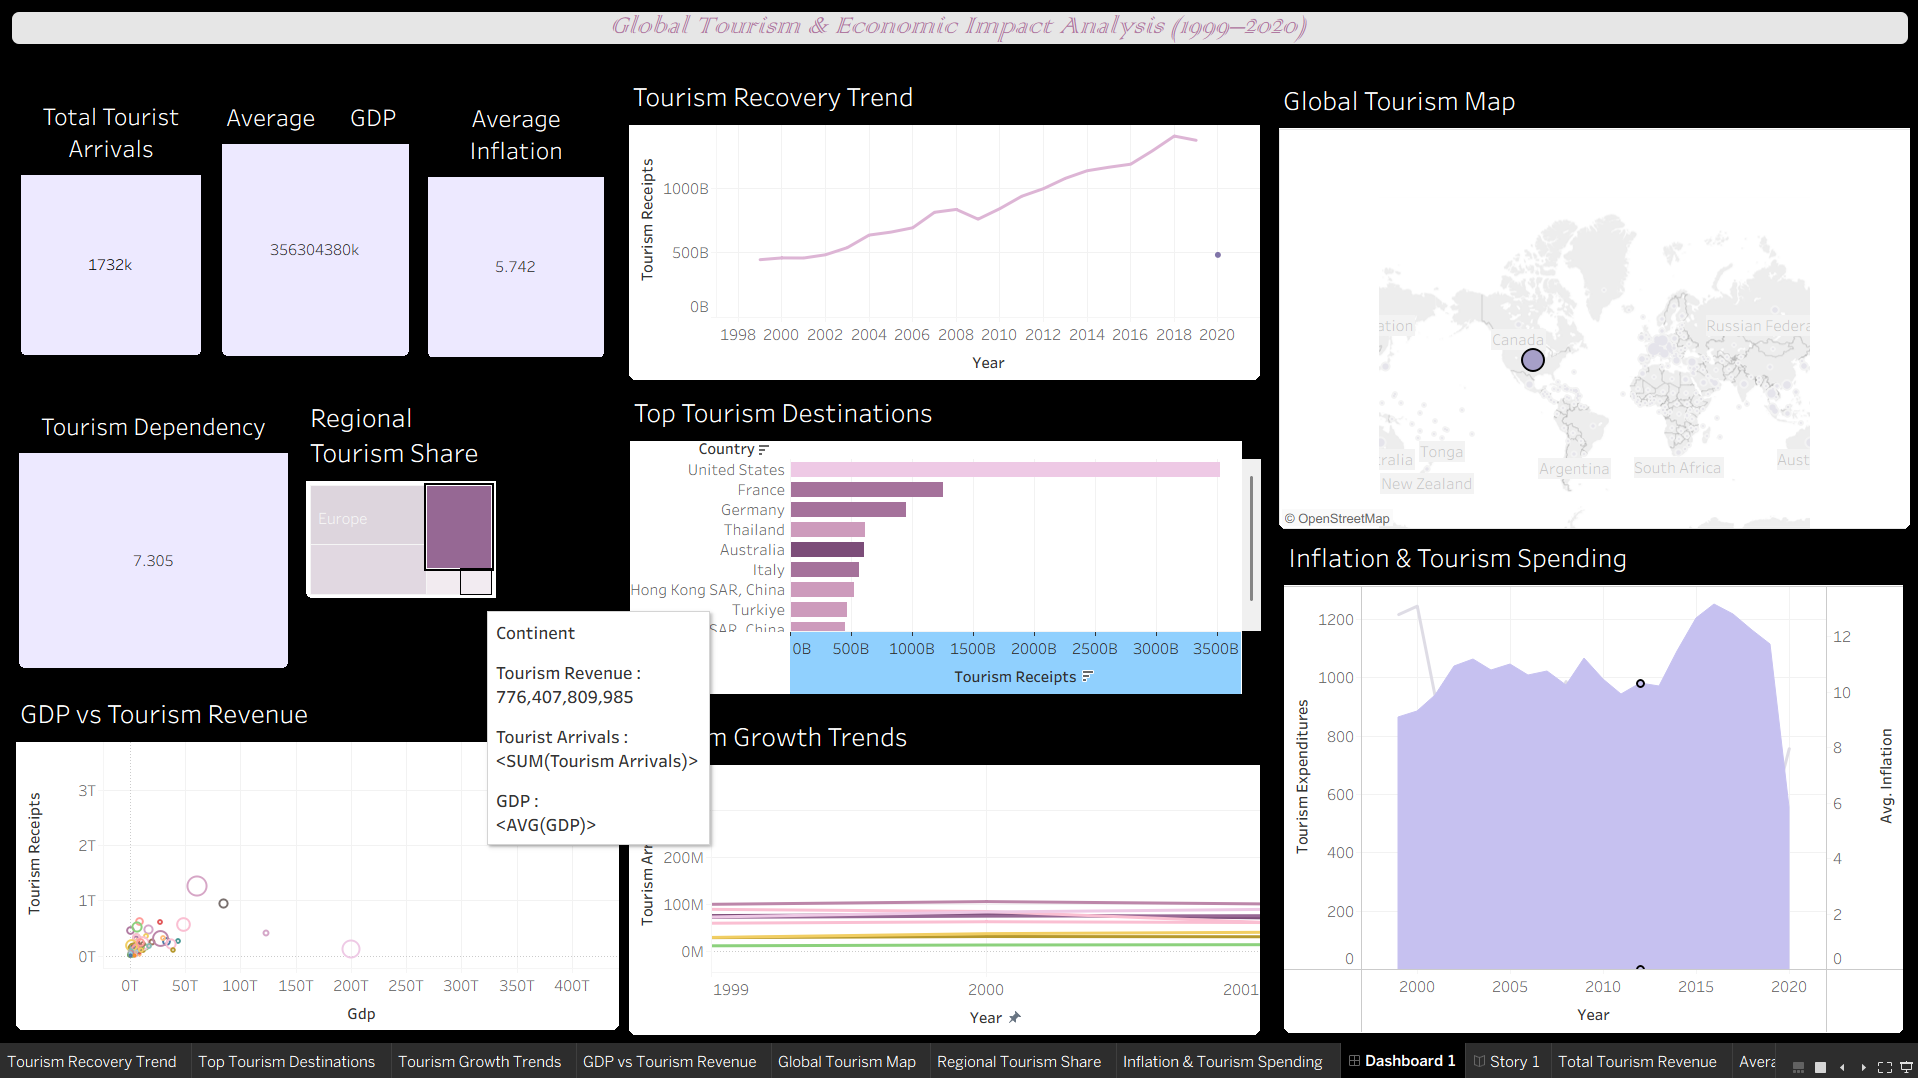

The dashboard page shown, as its layout file describes it:
{"tool":"tableau","page":{"name":"Dashboard 1","canvas":[1000,1000],"units":"permille","ordinal":0},"visuals":[{"type":"title","box":[4.9,10,990.2,50.2]},{"type":"worksheet","title":"Tourism Recovery Trend","mark":"Automatic","rows":["tourism_receipts"],"cols":["year"],"box":[325.3,68.2,333.1,299.7]},{"type":"worksheet","title":"Global Tourism Map","mark":"Automatic","box":[663.9,71.7,333.1,439.5]},{"type":"worksheet","title":"Total Tourism Revenue","mark":"Automatic","box":[9.1,88.1,97.8,256.2]},{"type":"worksheet","title":"Average GDP","mark":"Automatic","box":[113.5,89.3,101.4,256.2]},{"type":"worksheet","title":"Average Inflation","mark":"Automatic","box":[220.9,90.5,96,256.2]},{"type":"worksheet","title":"Top Tourism Destinations","mark":"Automatic","rows":["country"],"cols":["tourism_receipts"],"box":[325.9,371.3,333.1,199.5]},{"type":"worksheet","title":"Regional Tourism Share","mark":"Automatic","box":[157.5,376,164.8,257.2]},{"type":"worksheet","title":"Tourism Dependency","mark":"Automatic","box":[7.9,385.4,144.2,258.5]},{"type":"worksheet","title":"Inflation & Tourism Spending","mark":"Automatic","rows":["tourism_expenditures","inflation"],"cols":["year"],"box":[666.9,510,327.1,484.1]},{"type":"worksheet","title":"GDP vs Tourism Revenue","mark":"Automatic","rows":["tourism_receipts"],"cols":["gdp"],"box":[6,659.2,318.7,332.6]},{"type":"worksheet","title":"Tourism Growth Trends","mark":"Automatic","rows":["tourism_arrivals"],"cols":["year"],"box":[325.3,681.6,333.1,314.9]}]}

Visuals, with their boxes on the dashboard's canvas, which has no fixed pixel size, in thousandths of its width and height (x1, y1, x2, y2). These are canvas units, not pixel positions in the 1918x1078 screenshot, which may show the page scaled, cropped or inside an application window:
title: [x1=5, y1=10, x2=995, y2=60]
"Tourism Recovery Trend" worksheet: [x1=325, y1=68, x2=658, y2=368]
"Global Tourism Map" worksheet: [x1=664, y1=72, x2=997, y2=511]
"Total Tourism Revenue" worksheet: [x1=9, y1=88, x2=107, y2=344]
"Average GDP" worksheet: [x1=114, y1=89, x2=215, y2=346]
"Average Inflation" worksheet: [x1=221, y1=90, x2=317, y2=347]
"Top Tourism Destinations" worksheet: [x1=326, y1=371, x2=659, y2=571]
"Regional Tourism Share" worksheet: [x1=158, y1=376, x2=322, y2=633]
"Tourism Dependency" worksheet: [x1=8, y1=385, x2=152, y2=644]
"Inflation & Tourism Spending" worksheet: [x1=667, y1=510, x2=994, y2=994]
"GDP vs Tourism Revenue" worksheet: [x1=6, y1=659, x2=325, y2=992]
"Tourism Growth Trends" worksheet: [x1=325, y1=682, x2=658, y2=996]
